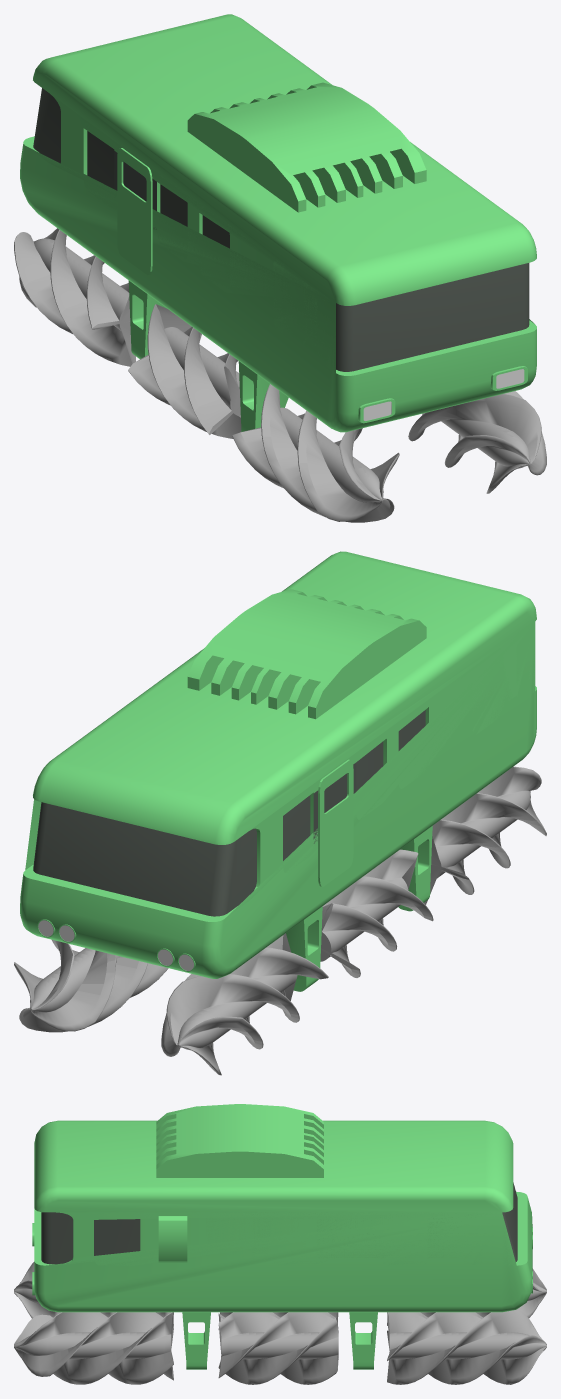
Rendered from STrainBody.fbx.
3 renders of one model, top to bottom at view 1: azimuth 30°, elevation 25°; view 2: azimuth 150°, elevation 25°; view 3: azimuth 270°, elevation 25°, orthographic. The views are drawn at different scales.
Visible parts, largest first — view 1: Cube, LeftDrill, Cube_002, RightDrill, Cube_006; view 2: Cube, LeftDrill, Cube_002, RightDrill, Cylinder_004; view 3: Cube, RightDrill, Cube_002, LeftDrill.
Boxes of the visible parts, x1=… form: Cube: x1=20, y1=14, x2=536, y2=432; LeftDrill: x1=14, y1=228, x2=399, y2=522; Cube_002: x1=33, y1=88, x2=529, y2=371; RightDrill: x1=408, y1=391, x2=546, y2=493; Cube_006: x1=363, y1=369, x2=524, y2=420; Cube: x1=20, y1=551, x2=536, y2=991; LeftDrill: x1=161, y1=766, x2=546, y2=1075; Cube_002: x1=33, y1=710, x2=425, y2=916; RightDrill: x1=14, y1=940, x2=168, y2=1032; Cylinder_004: x1=38, y1=920, x2=193, y2=970; Cube: x1=32, y1=1104, x2=532, y2=1369; RightDrill: x1=14, y1=1309, x2=546, y2=1384; Cube_002: x1=41, y1=1182, x2=517, y2=1264; LeftDrill: x1=14, y1=1262, x2=546, y2=1329.
Size of the model in its own units: 811 by 977 by 2087.
